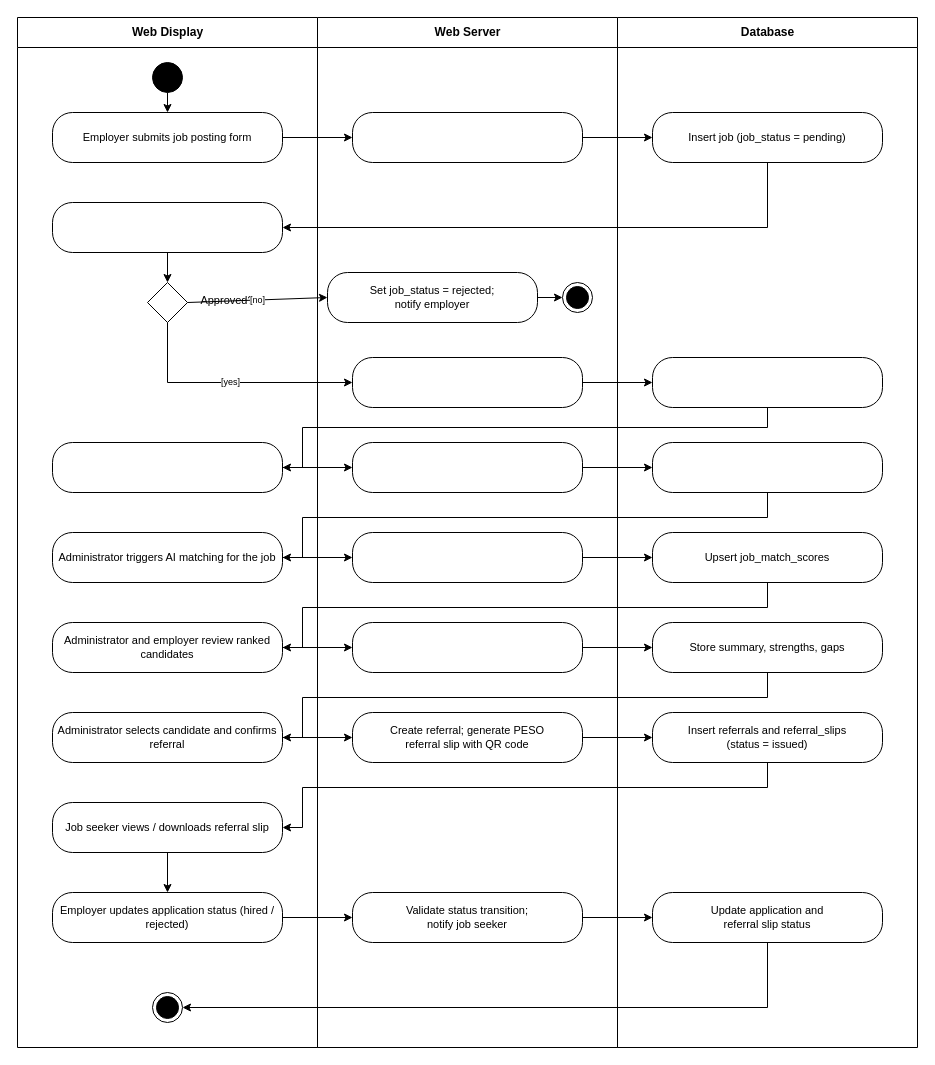
Image size: 935x1065. Some labels were removed from this diagram. The shapes that lost their labels are listed below. From the top down, each one's centre as x and y in pixels, then its label:
(467,137): Validate input, role and ownership
(167,227): Administrator reviews pending job
(467,382): Set job_status = active
(767,382): Update job record
(167,467): Job seeker views job and applies
(467,467): Validate and create application
(767,467): Insert application (under_review)
(467,557): Stage 1: score eligible profiles (five weighted dimensions)
(467,647): Stage 2 (on demand): generate de-identified explanation
